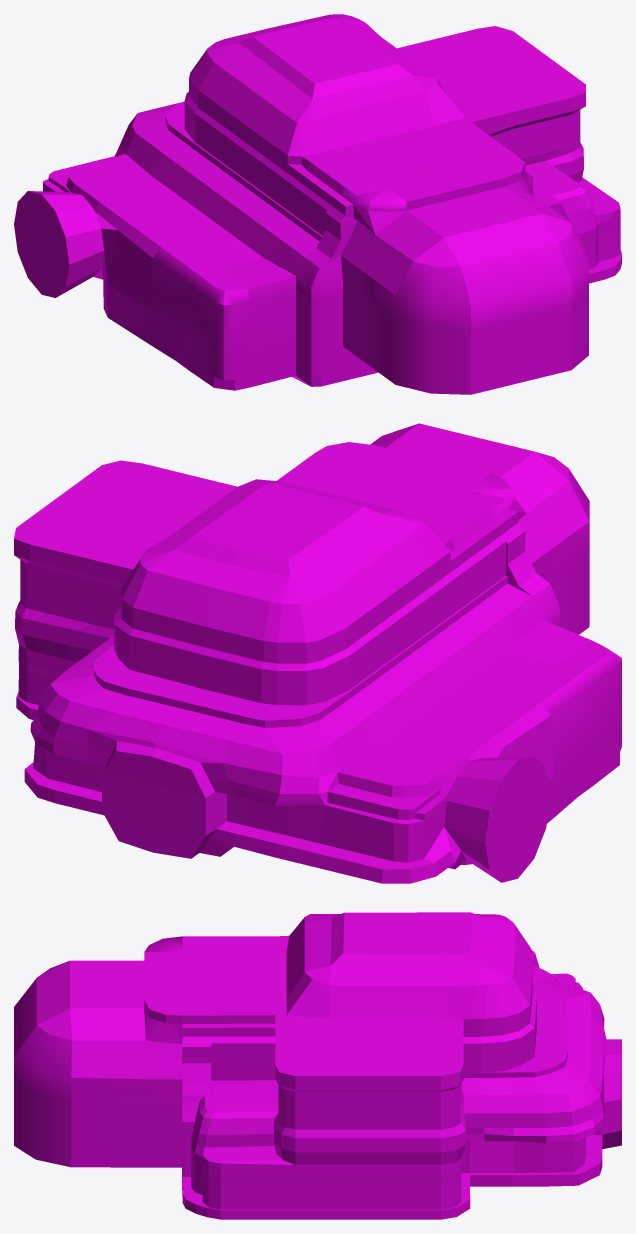
The model's file is Collider.fbx.
3 views of the same model, one above another, from view 1: azimuth 30°, elevation 25°; view 2: azimuth 150°, elevation 25°; view 3: azimuth 270°, elevation 25° (orthographic). The views are drawn at different scales.
Visible parts, largest first — view 1: pasted__polySurface489; view 2: pasted__polySurface489; view 3: pasted__polySurface489.
Part boxes in pixels (x1,y1,x2,y2): pasted__polySurface489: (14, 14, 621, 394); pasted__polySurface489: (14, 423, 621, 883); pasted__polySurface489: (14, 912, 621, 1219).
Size of the model in its own units: 41.58 by 19.91 by 48.78.
